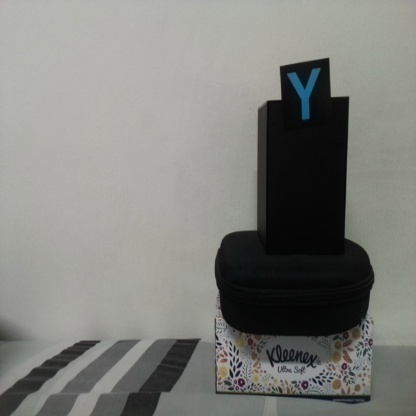id_14: (281, 66, 331, 128)
